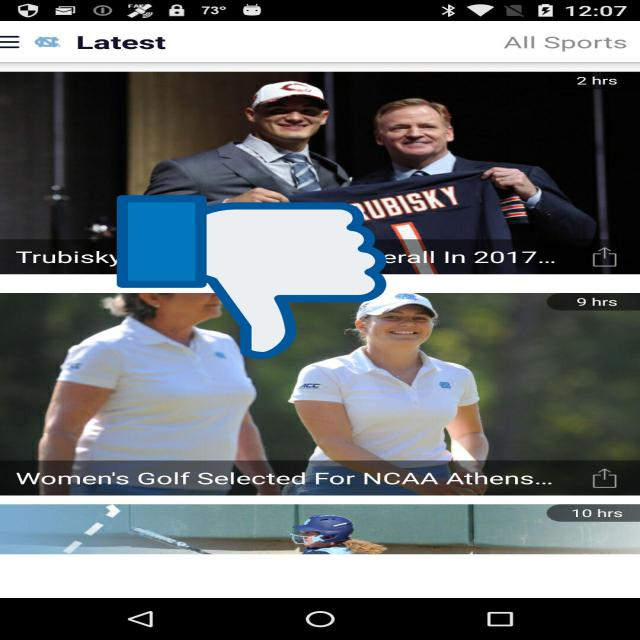obstruction: (117, 192, 386, 362)
